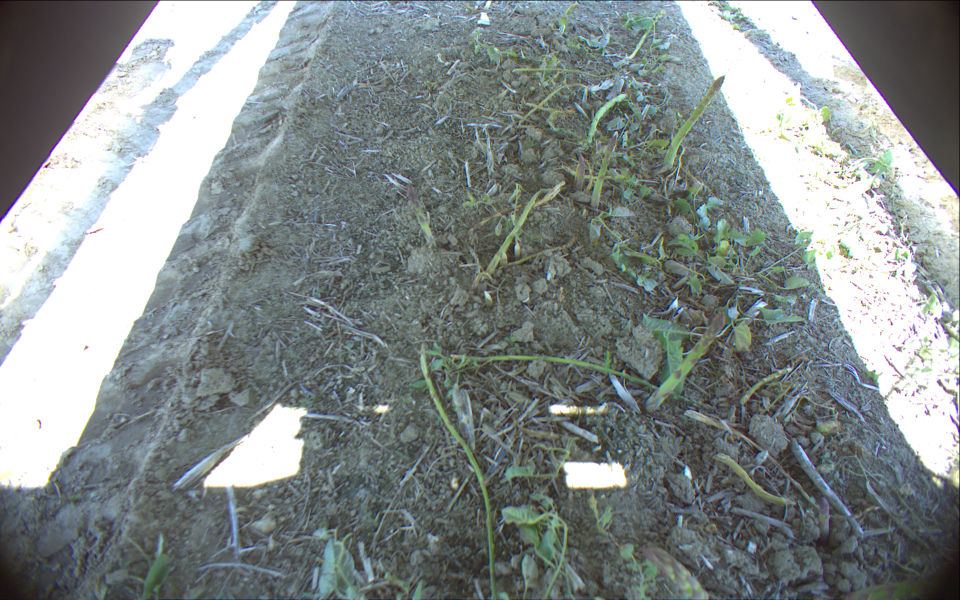aspa: (639, 307, 730, 415), (658, 75, 726, 173), (588, 131, 617, 210)
